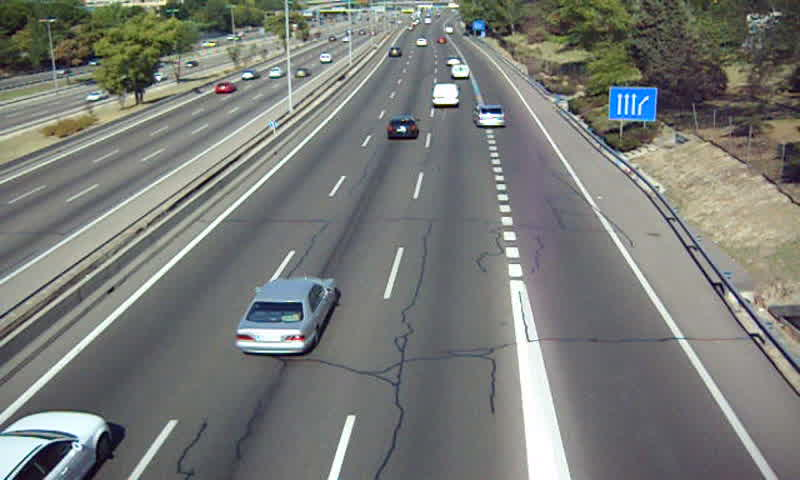car: (235, 276, 337, 356), (386, 115, 419, 141), (475, 104, 507, 129)
van: (432, 83, 459, 108), (452, 63, 470, 80)
